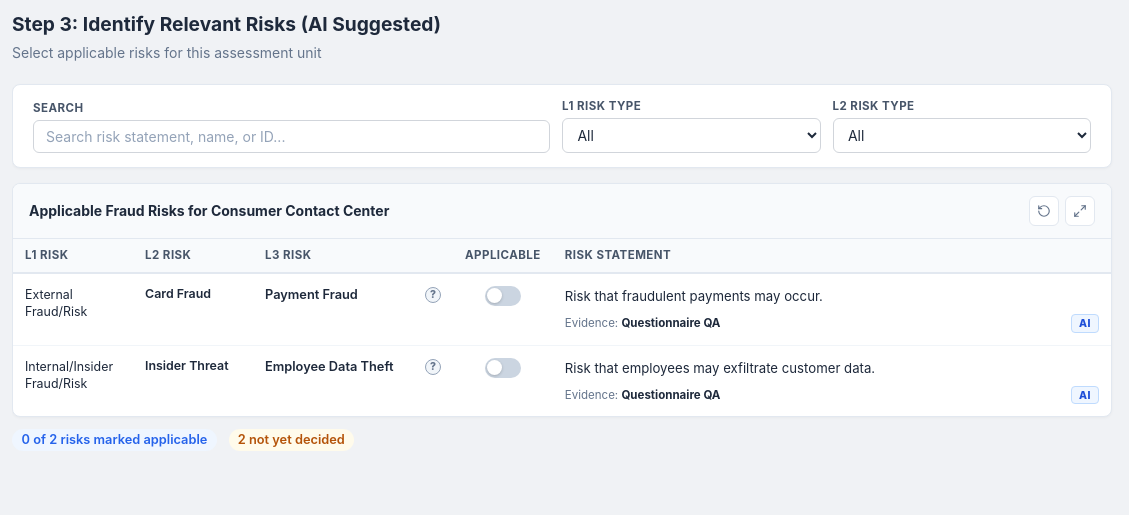
Scenario: StepIdentifyRisks — import › shows import confirmation banner after successful import
The width and height of the screenshot is (1129, 515).
Expected: the text "Payment Fraud" is shown, [265,287,358,302]
Click the button titled "Load from Taxonomy". click: {"x": 1044, "y": 211}
box: [1029,196,1059,226]
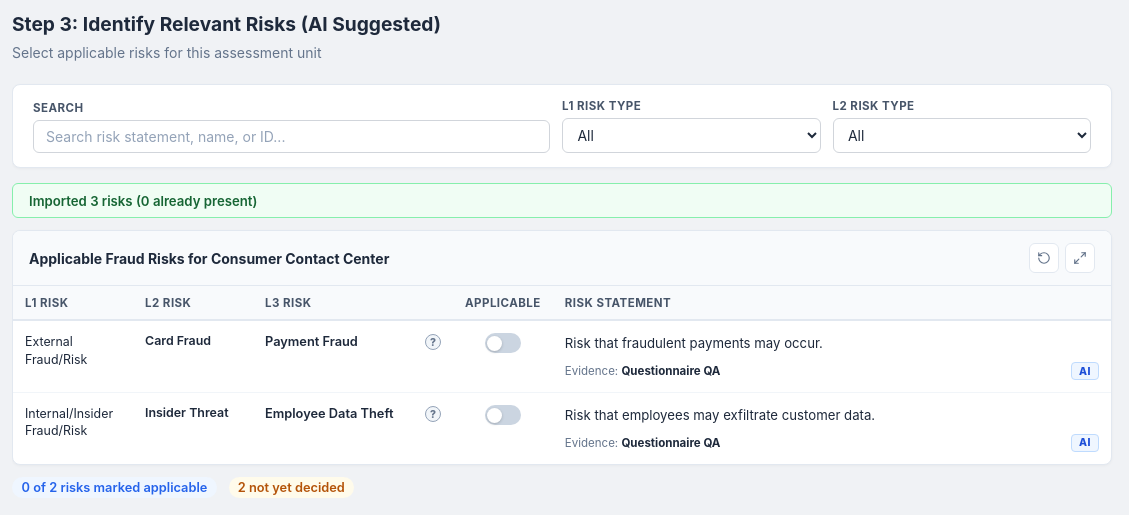
Now the text "Imported 3 risks (0 already present)" is shown, box [12,183,1112,218]
